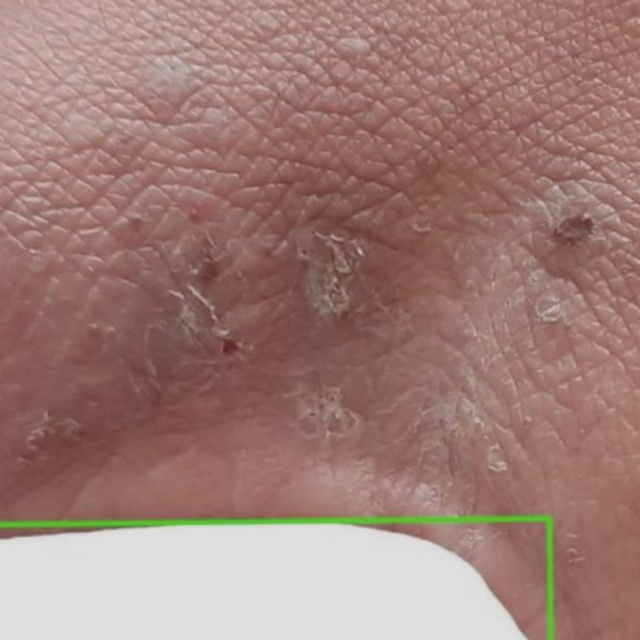Scabies: (0, 518, 550, 639)
